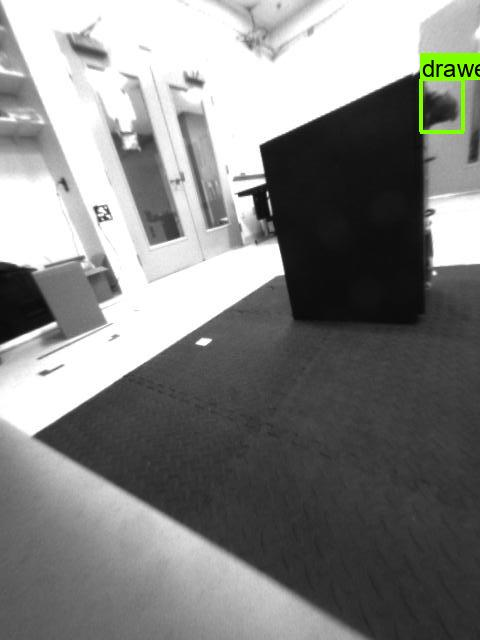door_handle: (163, 173, 185, 192)
drawer: (422, 82, 465, 137)
